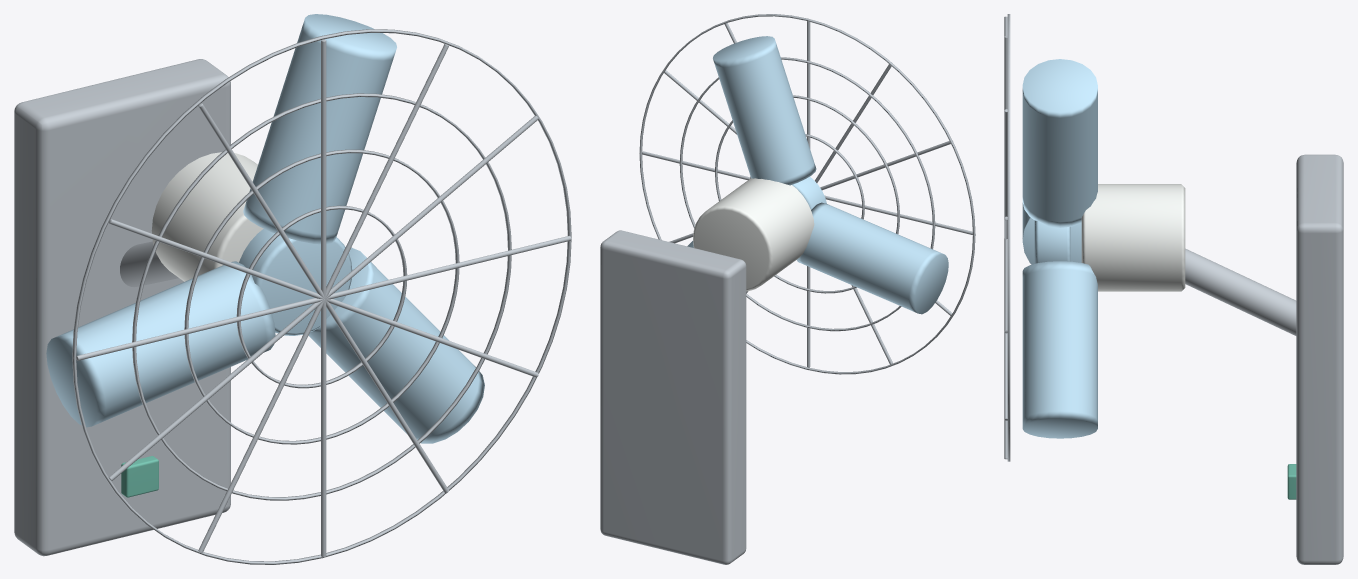
The model's file is wall_fan.glb.
3 renders of one model, left to right at view 1: azimuth 30°, elevation 25°; view 2: azimuth 150°, elevation 25°; view 3: azimuth 270°, elevation 25°, orthographic. The views are drawn at different scales.
Parts seen in each view (by area): view 1: Fan_Wall_Mount, Fan_Blade2, Fan_Blade0, Fan_Blade1, Fan_Motor, Fan_Grille_Ring0.165, Fan_Hub, Fan_Grille_Ring0.125, Fan_Grille_Ring0.09, Fan_Grille_Ring0.055, Fan_Grille_Ray1, Fan_Grille_Ray7 (+12 smaller); view 2: Fan_Wall_Mount, Fan_Blade0, Fan_Blade2, Fan_Motor, Fan_Grille_Ring0.165, Fan_Grille_Ring0.125, Fan_Grille_Ring0.09, Fan_Grille_Ray9, Fan_Hub, Fan_Grille_Ray10, Fan_Grille_Ray11, Fan_Grille_Ray0; view 3: Fan_Wall_Mount, Fan_Blade1, Fan_Blade0, Fan_Motor, Fan_Support, Fan_Grille_Ring0.165, Fan_Hub, Fan_Blade2, Fan_Grille_Ray1.
Boxes of the visible parts, x1,y1,x2,y2 form: Fan_Wall_Mount: (14, 59, 230, 556); Fan_Blade2: (46, 261, 275, 427); Fan_Blade0: (243, 14, 396, 244); Fan_Blade1: (308, 247, 484, 443); Fan_Motor: (151, 152, 263, 281); Fan_Grille_Ring0.165: (72, 29, 571, 564); Fan_Hub: (239, 229, 352, 335); Fan_Grille_Ring0.125: (132, 93, 511, 500); Fan_Grille_Ring0.09: (184, 149, 459, 444); Fan_Grille_Ring0.055: (236, 205, 407, 388); Fan_Grille_Ray1: (325, 44, 448, 298); Fan_Grille_Ray7: (198, 299, 324, 552); Fan_Wall_Mount: (600, 230, 746, 564); Fan_Blade0: (713, 36, 816, 185); Fan_Blade2: (797, 202, 948, 314); Fan_Motor: (693, 178, 814, 291); Fan_Grille_Ring0.165: (639, 14, 975, 374); Fan_Grille_Ring0.125: (679, 57, 935, 331); Fan_Grille_Ring0.09: (715, 95, 899, 293); Fan_Grille_Ray9: (824, 195, 972, 235); Fan_Hub: (792, 176, 826, 209); Fan_Grille_Ray10: (820, 140, 953, 190); Fan_Grille_Ray11: (815, 63, 892, 182); Fan_Grille_Ray0: (807, 21, 810, 148); Fan_Wall_Mount: (1296, 154, 1343, 564); Fan_Blade1: (1022, 261, 1097, 438); Fan_Blade0: (1022, 59, 1097, 227); Fan_Motor: (1081, 184, 1185, 291); Fan_Support: (1185, 248, 1296, 335); Fan_Grille_Ring0.165: (1007, 14, 1010, 461); Fan_Hub: (1034, 220, 1070, 263); Fan_Blade2: (1022, 203, 1081, 264); Fan_Grille_Ray1: (1004, 109, 1007, 217).
Size of the model in its own units: 0.333 by 0.4065 by 0.252.
